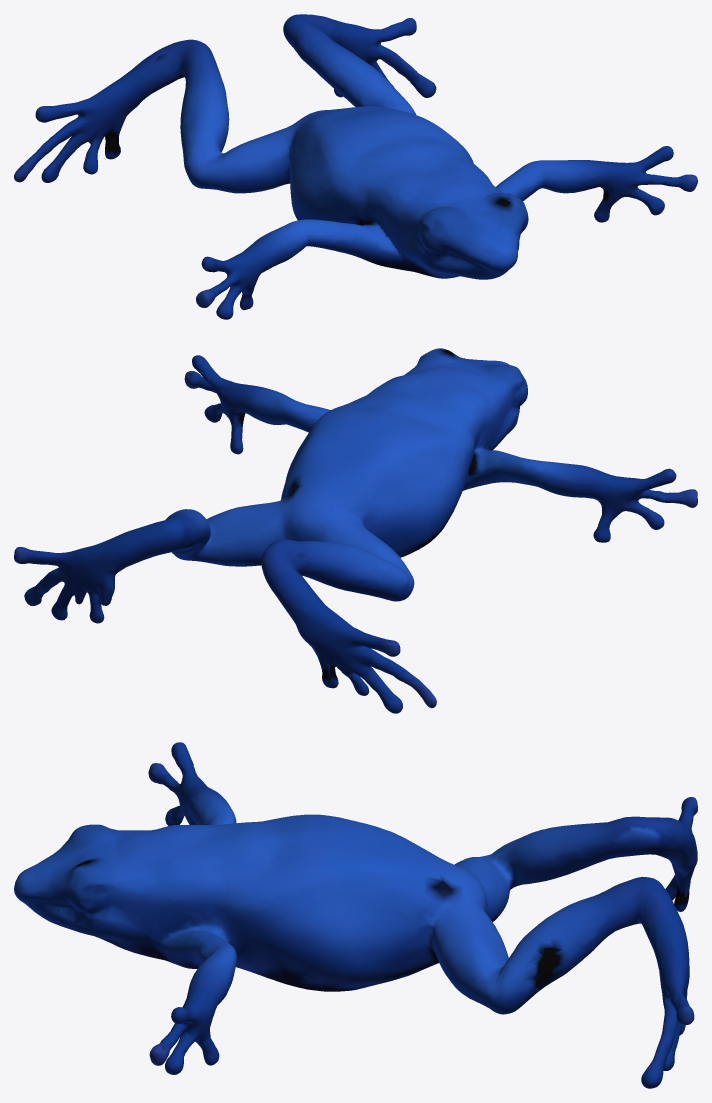
File: dartfrog-cobalt_clean.swim.glb
3 renders of one model, top to bottom at view 1: azimuth 30°, elevation 25°; view 2: azimuth 150°, elevation 25°; view 3: azimuth 270°, elevation 25°, orthographic. The views are drawn at different scales.
Visible parts, largest first — view 1: dartfrog:cobalt_clean.swim; view 2: dartfrog:cobalt_clean.swim; view 3: dartfrog:cobalt_clean.swim.
Boxes of the visible parts, x1=… form: dartfrog:cobalt_clean.swim: x1=14, y1=14, x2=697, y2=319; dartfrog:cobalt_clean.swim: x1=14, y1=348, x2=697, y2=713; dartfrog:cobalt_clean.swim: x1=14, y1=742, x2=697, y2=1088.
Size of the model in its own units: 0.0612 by 0.0153 by 0.0616.
